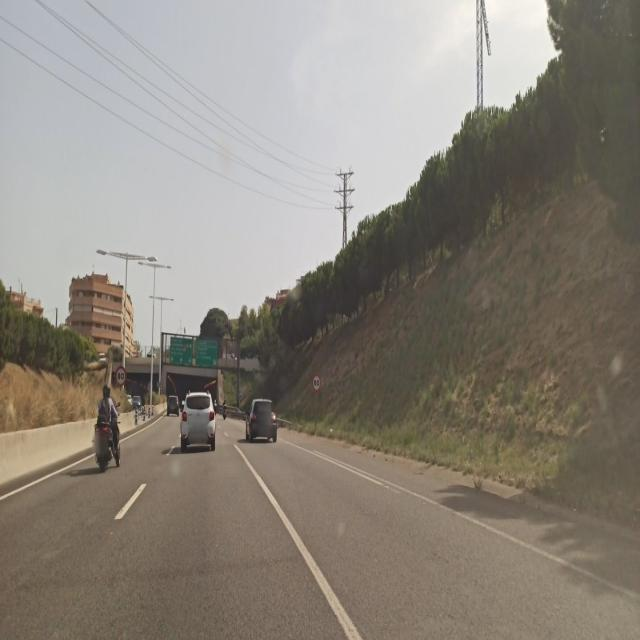bike: (93, 407, 122, 472)
car: (180, 390, 216, 452), (245, 396, 278, 444), (167, 393, 180, 416)
